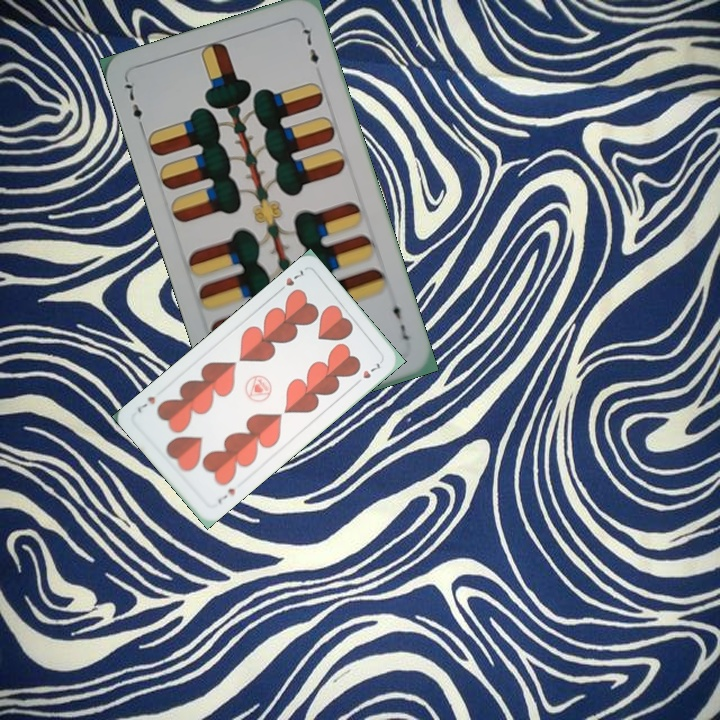E7: (121, 76, 147, 134), (388, 294, 412, 344)
H7: (273, 265, 306, 295), (214, 484, 238, 506)
